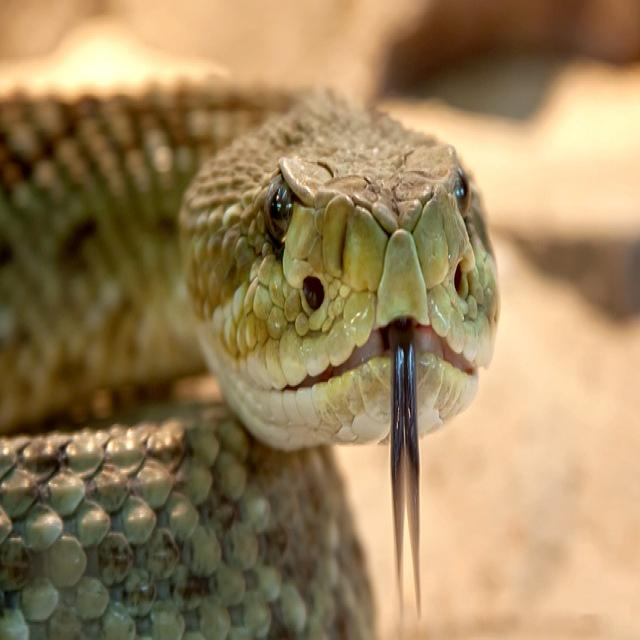Carnivorous: (0, 81, 498, 640)
